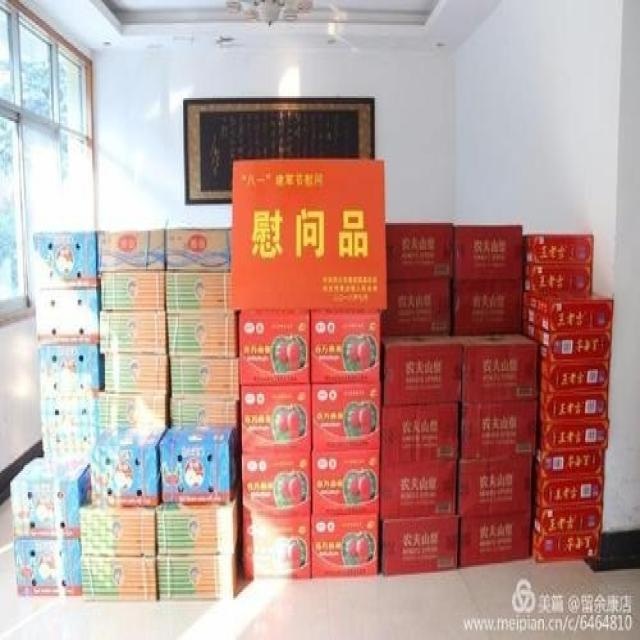box: (10, 457, 91, 538), (381, 334, 466, 406), (159, 425, 238, 502), (454, 332, 538, 402), (91, 429, 166, 505), (241, 309, 312, 386), (311, 309, 381, 382), (241, 382, 312, 452), (380, 402, 461, 463), (461, 396, 538, 459), (311, 382, 380, 452), (379, 459, 456, 521), (381, 515, 458, 577), (242, 452, 312, 517), (457, 455, 535, 513), (156, 500, 238, 554), (311, 513, 379, 577), (312, 450, 380, 513), (79, 500, 156, 555), (381, 279, 454, 336), (13, 538, 82, 598), (243, 517, 310, 578), (453, 277, 524, 334), (387, 223, 456, 281), (460, 511, 531, 567), (33, 229, 97, 290), (157, 554, 238, 600), (40, 394, 99, 457), (35, 288, 101, 344), (456, 225, 524, 279), (38, 344, 105, 398), (166, 309, 241, 357), (529, 290, 613, 332), (79, 555, 157, 600), (169, 350, 239, 400), (527, 323, 612, 361), (100, 311, 168, 356), (97, 229, 166, 273), (529, 523, 603, 563), (166, 271, 233, 315), (531, 467, 604, 507), (99, 356, 172, 396), (536, 411, 608, 450), (166, 229, 232, 271), (531, 440, 605, 477), (101, 271, 165, 311), (530, 498, 603, 532), (538, 386, 608, 421), (538, 359, 611, 392), (97, 396, 169, 429), (524, 234, 594, 265), (170, 398, 239, 429), (524, 265, 593, 294)
